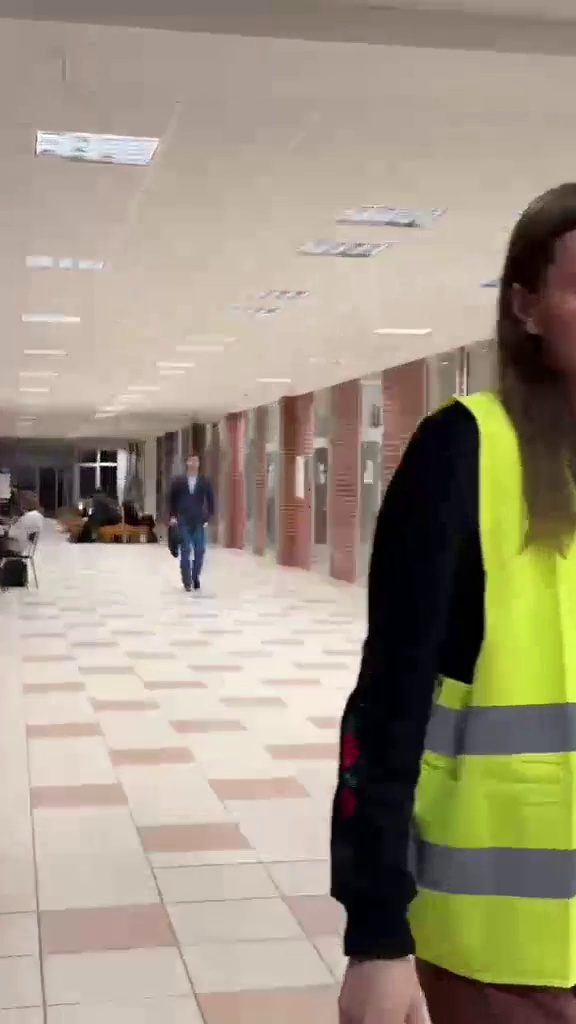no vest: (162, 448, 221, 597)
vest: (333, 173, 576, 1024)
